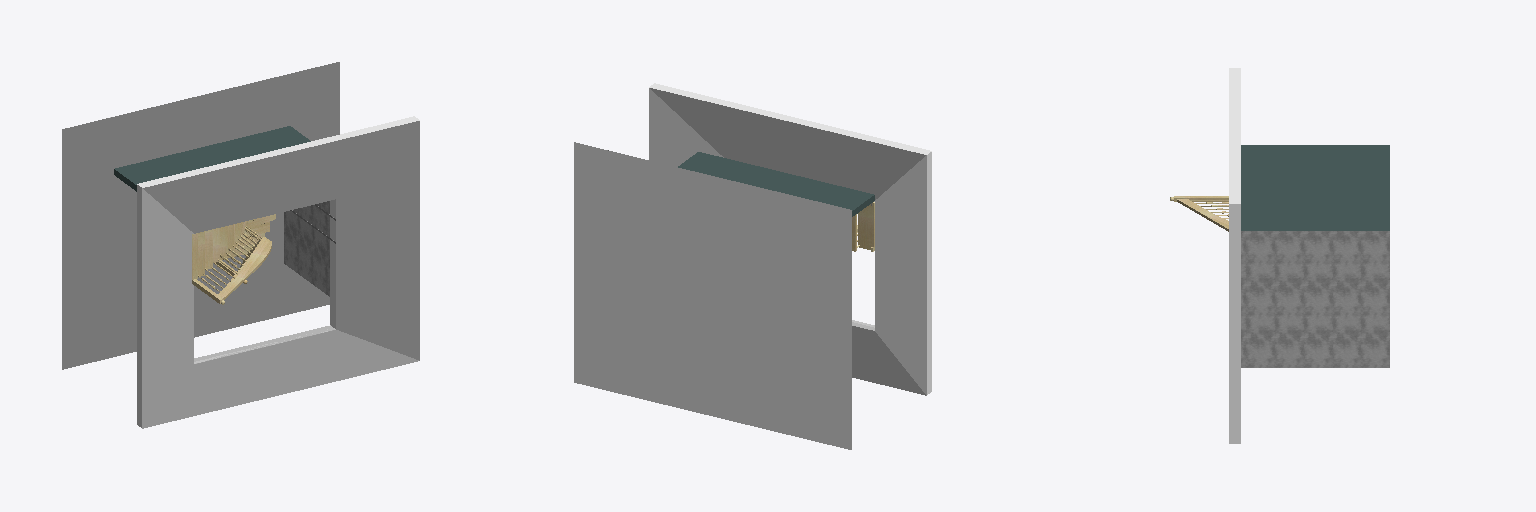
3 renders of one model, left to right at view 1: azimuth 30°, elevation 25°; view 2: azimuth 150°, elevation 25°; view 3: azimuth 270°, elevation 25°, orthographic.
Parts seen in each view (by area): view 1: Mesh0014, Mesh005, flaeche, Mesh001, Mesh0010, Mesh007, Mesh003; view 2: Mesh0014, Mesh0012, Mesh008, Mesh004, Mesh0010; view 3: Mesh0014, Mesh006, Mesh0010.
Boxes of the visible parts, x1,y1,x2,y2 form: Mesh0014: [62, 62, 339, 428]; Mesh005: [336, 121, 419, 360]; flaeche: [143, 121, 418, 233]; Mesh001: [143, 330, 418, 428]; Mesh0010: [137, 116, 419, 187]; Mesh007: [330, 199, 335, 328]; Mesh003: [194, 325, 335, 363]; Mesh0014: [574, 142, 931, 449]; Mesh0012: [650, 88, 925, 199]; Mesh008: [649, 88, 723, 166]; Mesh004: [852, 326, 925, 395]; Mesh0010: [649, 83, 931, 154]; Mesh0014: [1170, 145, 1389, 367]; Mesh006: [1229, 204, 1240, 443]; Mesh0010: [1229, 68, 1240, 203].
Size of the model in its own units: 558 by 462 by 383.
9 materials, 2 textured.